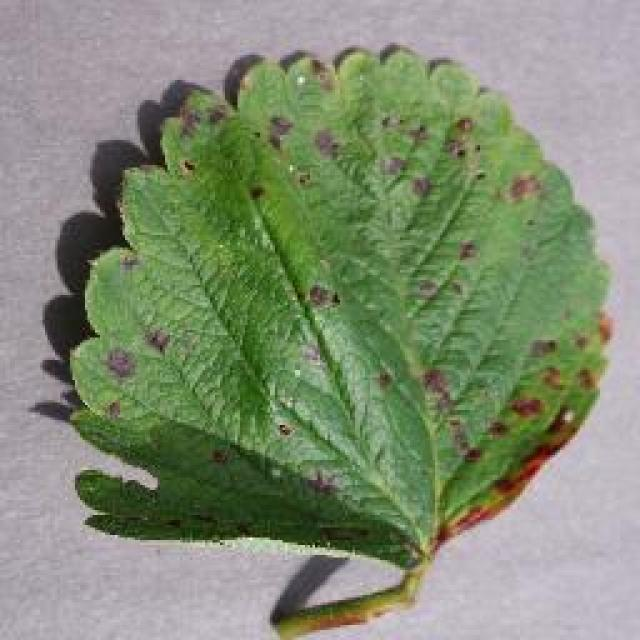Straw_Leaf_scorch: (282, 95, 550, 256), (397, 326, 600, 506)
